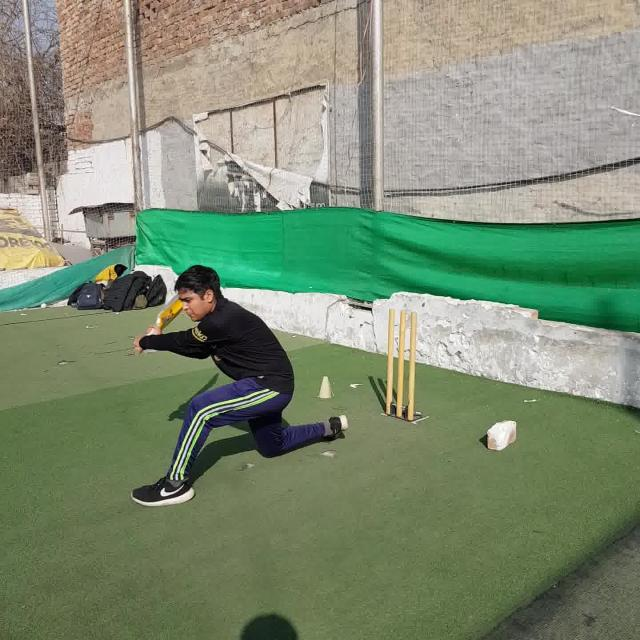bat: (134, 298, 180, 356)
